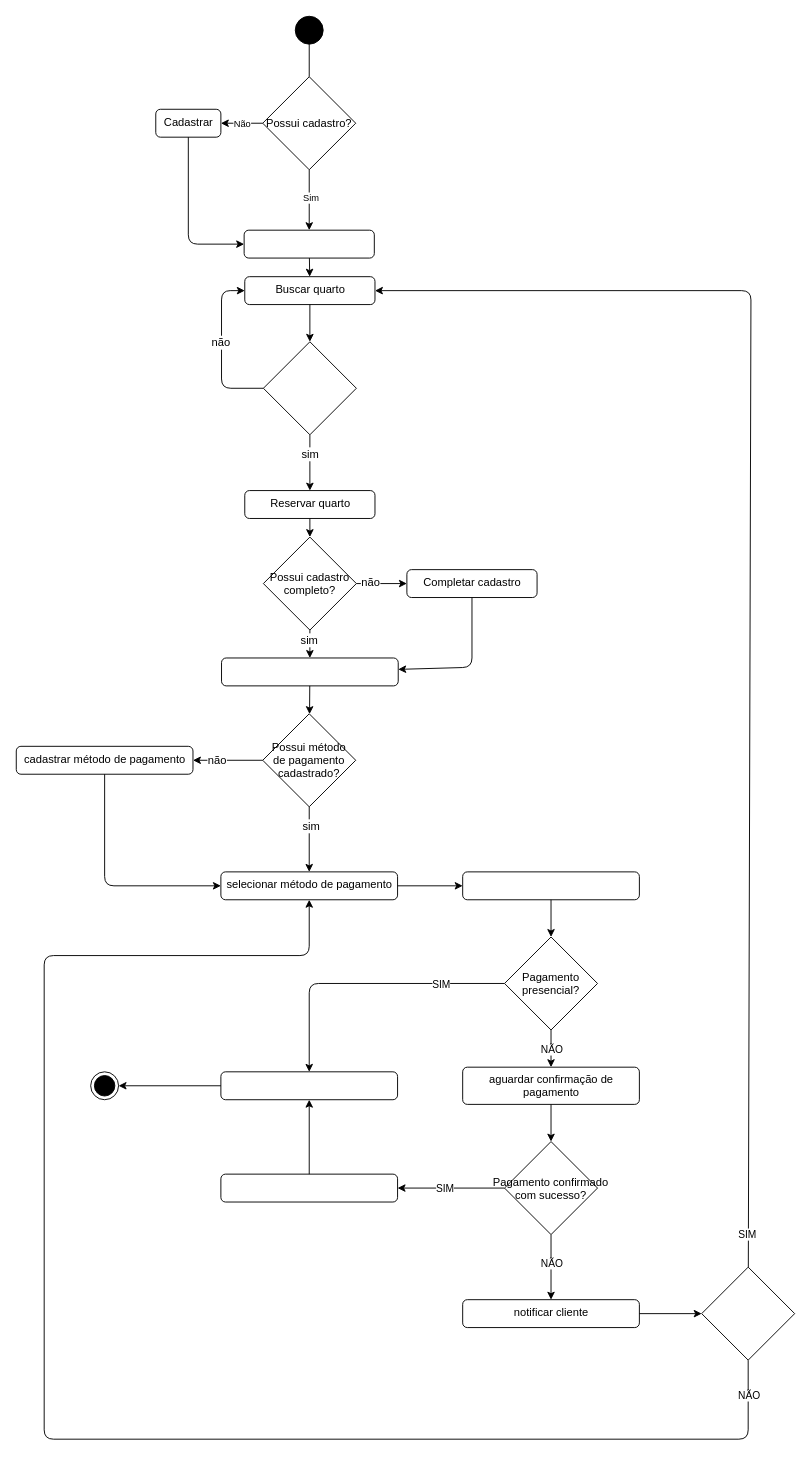
This 811x1463 diagram has some shape labels left out. The box of each missing label's shape, as (x1, y1, x2, y2) in pixels:
Achou quarto desejado?: (262, 341, 356, 435)
Autenticar: (243, 229, 374, 258)
confirmar pagamento: (220, 1173, 398, 1202)
confirmar reserva: (220, 1071, 398, 1100)
Mesmo quarto já reservado?: (701, 1266, 795, 1360)
revisar reserva: (462, 871, 639, 900)
selecionar dias: (221, 657, 398, 686)
